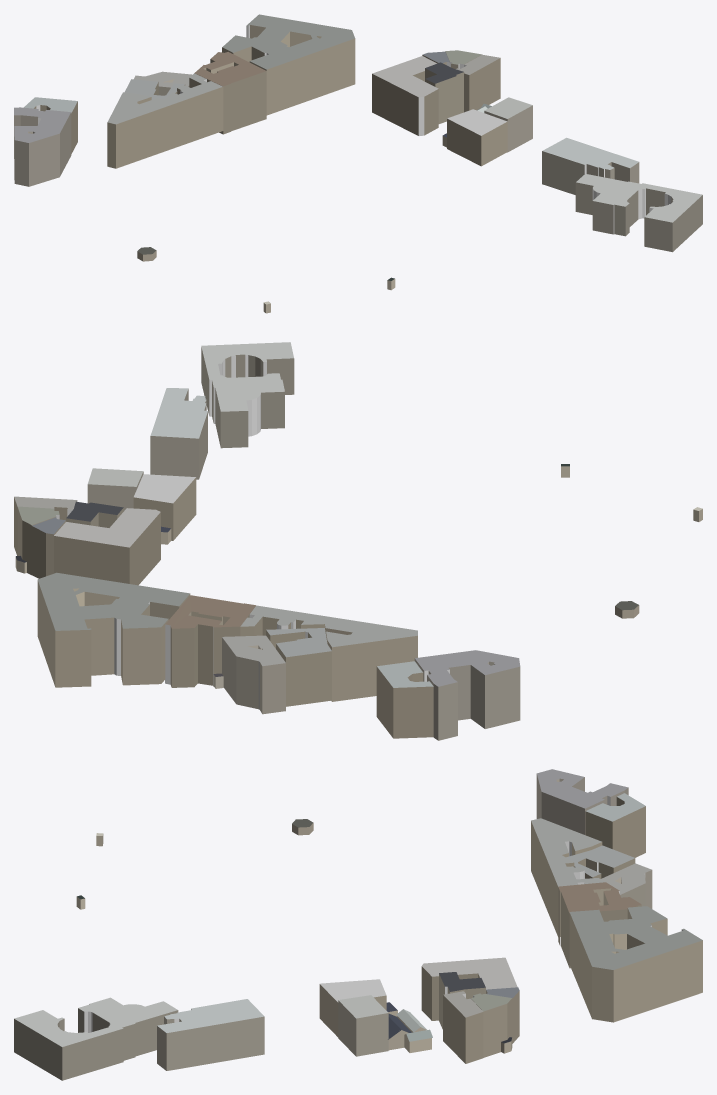
The picture shows the model from 3 angles, top to bottom: view 1: azimuth 30°, elevation 25°; view 2: azimuth 150°, elevation 25°; view 3: azimuth 270°, elevation 25°; orthographic projection. The views are drawn at different scales.
Parts seen in each view (by area): view 1: tuile; view 2: tuile; view 3: tuile.
Boxes of the visible parts, <box> form: tuile: <box>14,14,702,313</box>; tuile: <box>14,342,702,740</box>; tuile: <box>14,769,702,1080</box>.
Size of the model in its own units: 270 by 27.28 by 299.
